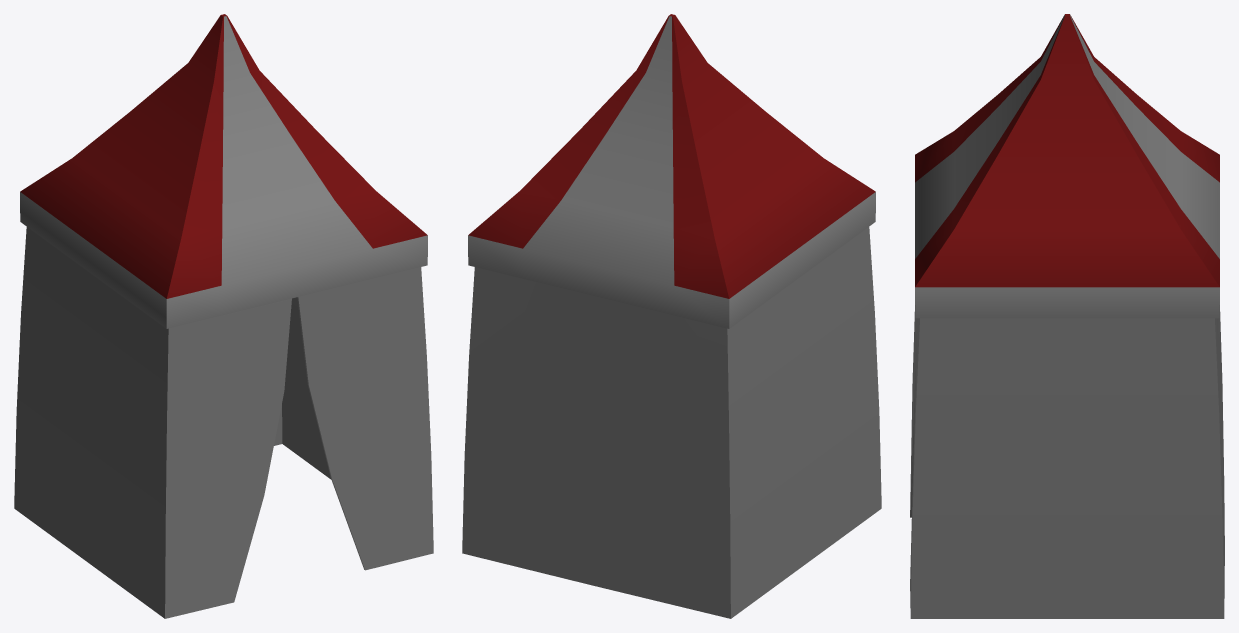
File: SM_tent_siege_04.fbx
3 views of the same model, side by side, from view 1: azimuth 30°, elevation 25°; view 2: azimuth 150°, elevation 25°; view 3: azimuth 270°, elevation 25° (orthographic). The views are drawn at different scales.
Parts seen in each view (by area): view 1: Box246; view 2: Box246; view 3: Box246.
Boxes of the visible parts, box(x1,y1,x2,y2) form: Box246: box(14, 14, 433, 618); Box246: box(462, 14, 881, 618); Box246: box(910, 14, 1224, 618).
Size of the model in its own units: 82.82 by 80.88 by 152.
